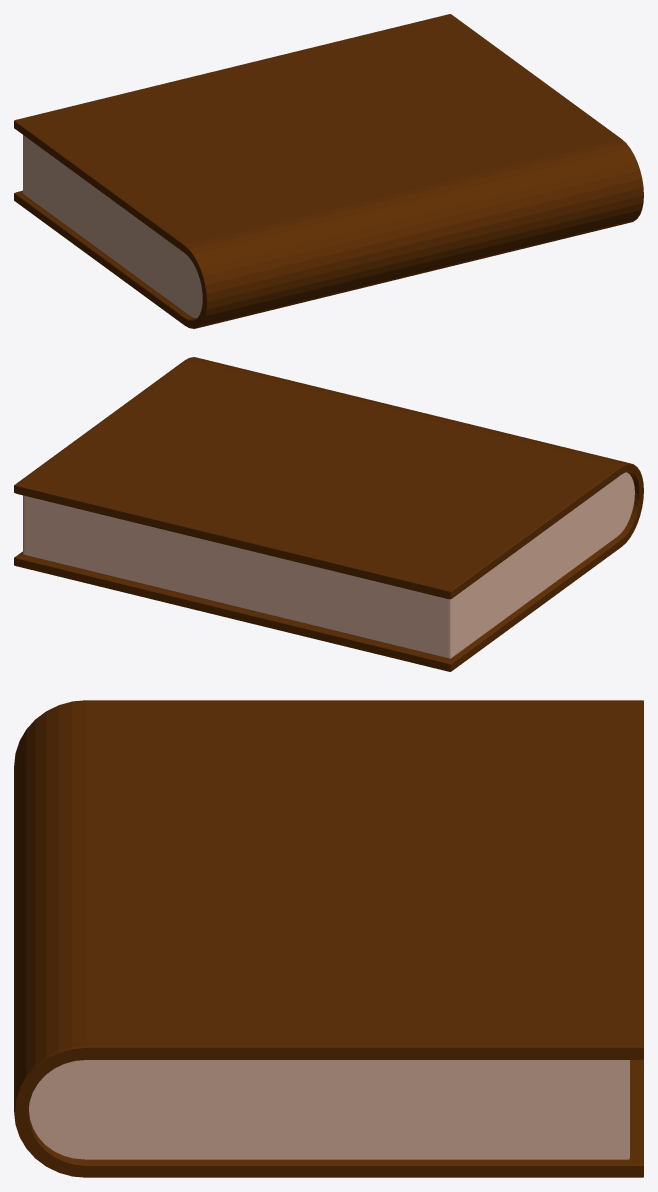
Rendered from book.fbx.
3 views of the same model, one above another, from view 1: azimuth 30°, elevation 25°; view 2: azimuth 150°, elevation 25°; view 3: azimuth 270°, elevation 25° (orthographic). The views are drawn at different scales.
Parts seen in each view (by area): view 1: Cylinder; view 2: Cylinder; view 3: Cylinder.
Part boxes in pixels (x1,y1,x2,y2): Cylinder: (14, 14, 643, 328); Cylinder: (14, 357, 643, 671); Cylinder: (14, 700, 643, 1177).
Bounding box in the file's own units: 1134 × 200 × 869.
